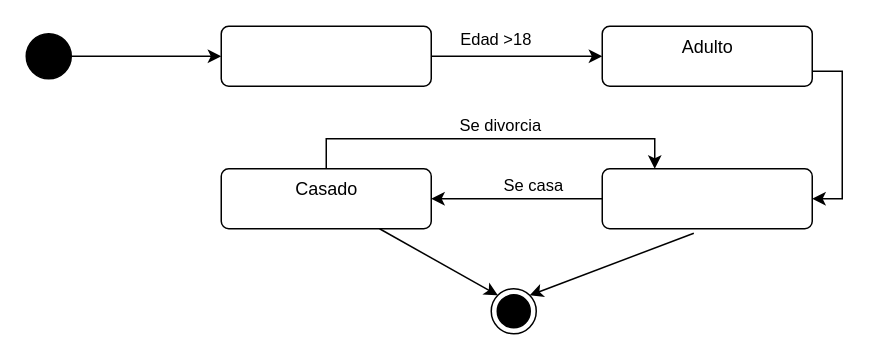
Some shapes in this 881 by 360 pixel diagram are drawn without their labels. The box of each missing label's shape, as (x1, y1, x2, y2) in pixels:
Niño: (220, 25, 431, 86)
Soltero: (601, 167, 812, 229)
